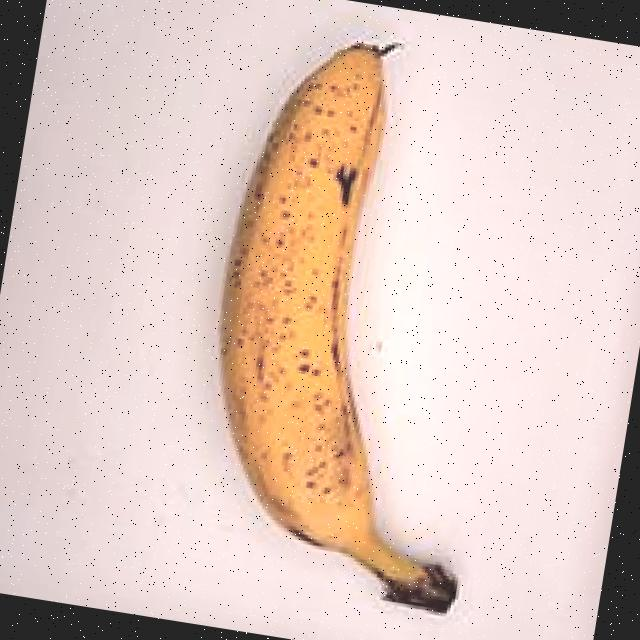Overripe: (143, 0, 580, 638)
